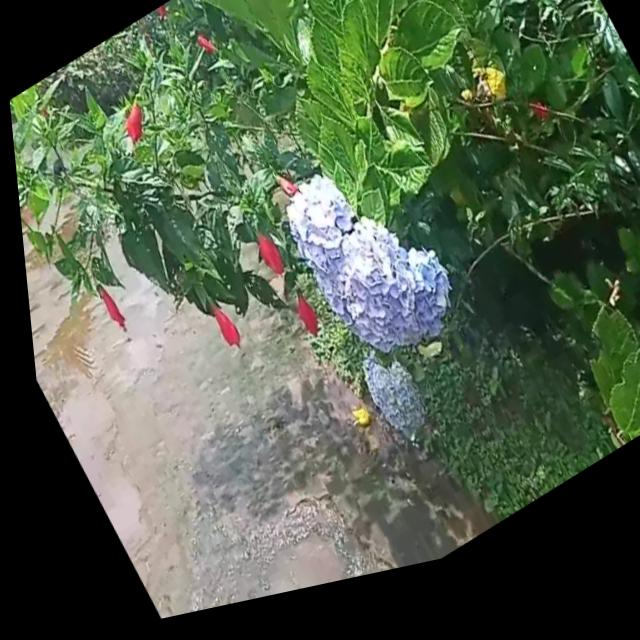Flower: (263, 137, 464, 404), (341, 350, 434, 474), (83, 271, 133, 352), (195, 294, 240, 369), (278, 289, 322, 358), (111, 94, 157, 160), (243, 229, 287, 295)
